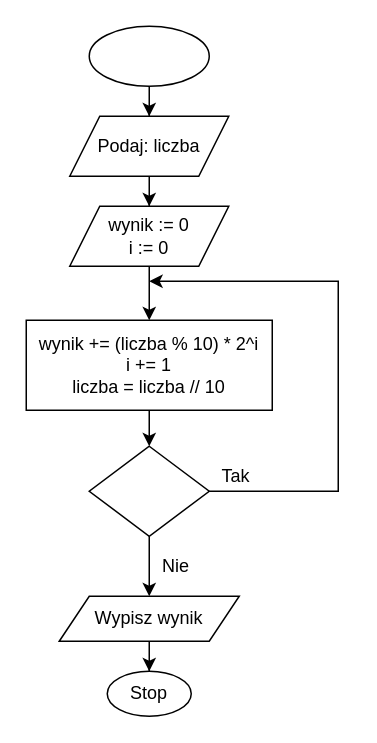
This 377x743 diagram has some shape labels left out. The centre of each missing label's shape, as x and y in pixels:
"liczba > 0" belongs at (x=148, y=490).
"Start" belongs at (x=148, y=55).
